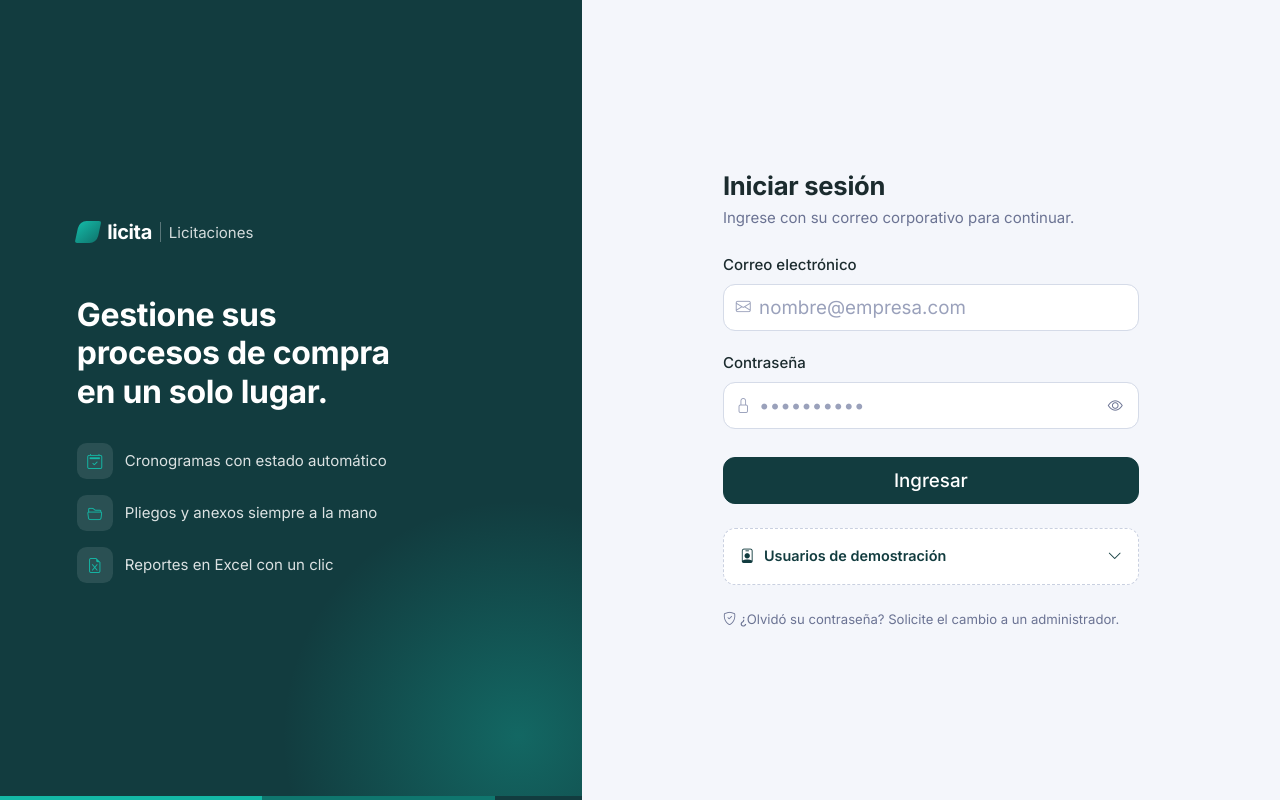
it: LoginView › shows the API message for wrong credentials and clears the password
In the field with id "login-email": x=931, y=308 [723,284,1139,331], type "admin@licita.test"
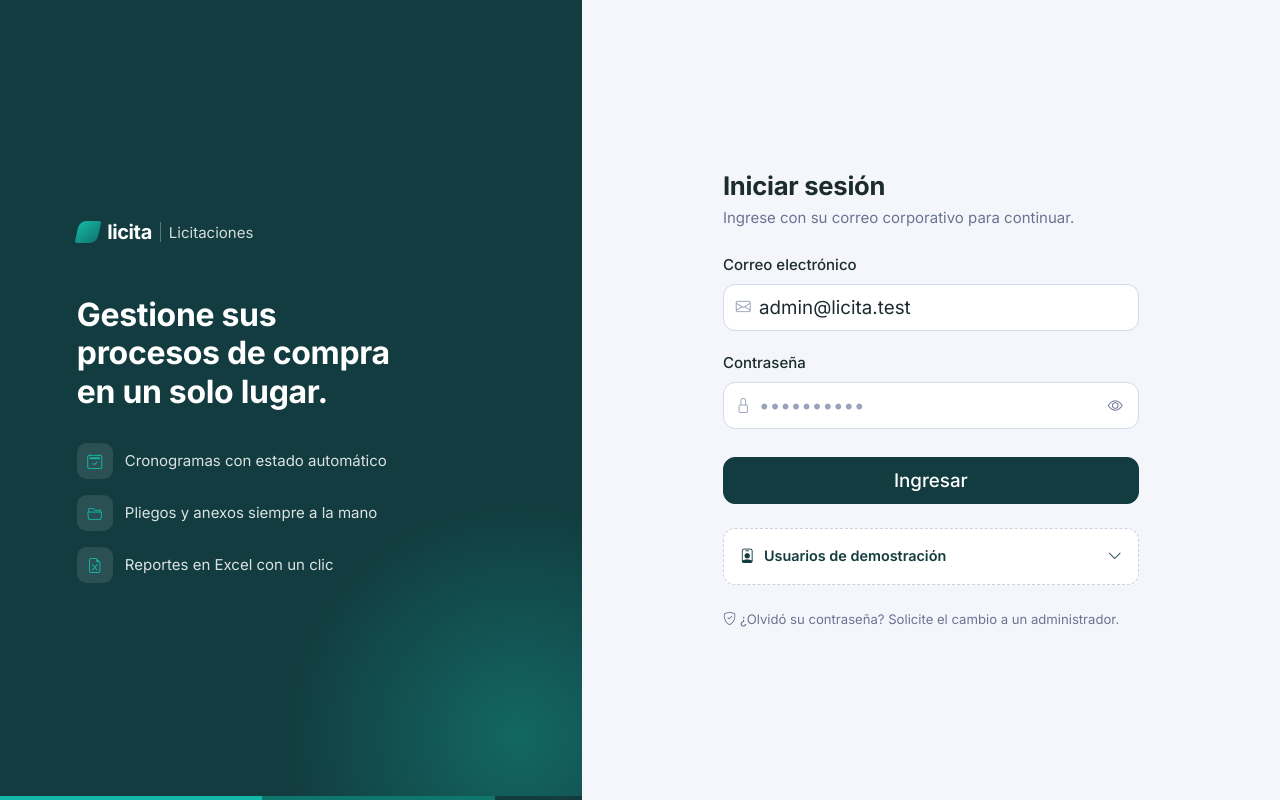
In the password field with id "login-password": x=931, y=406 [723,382,1139,430], type "otra-clave"
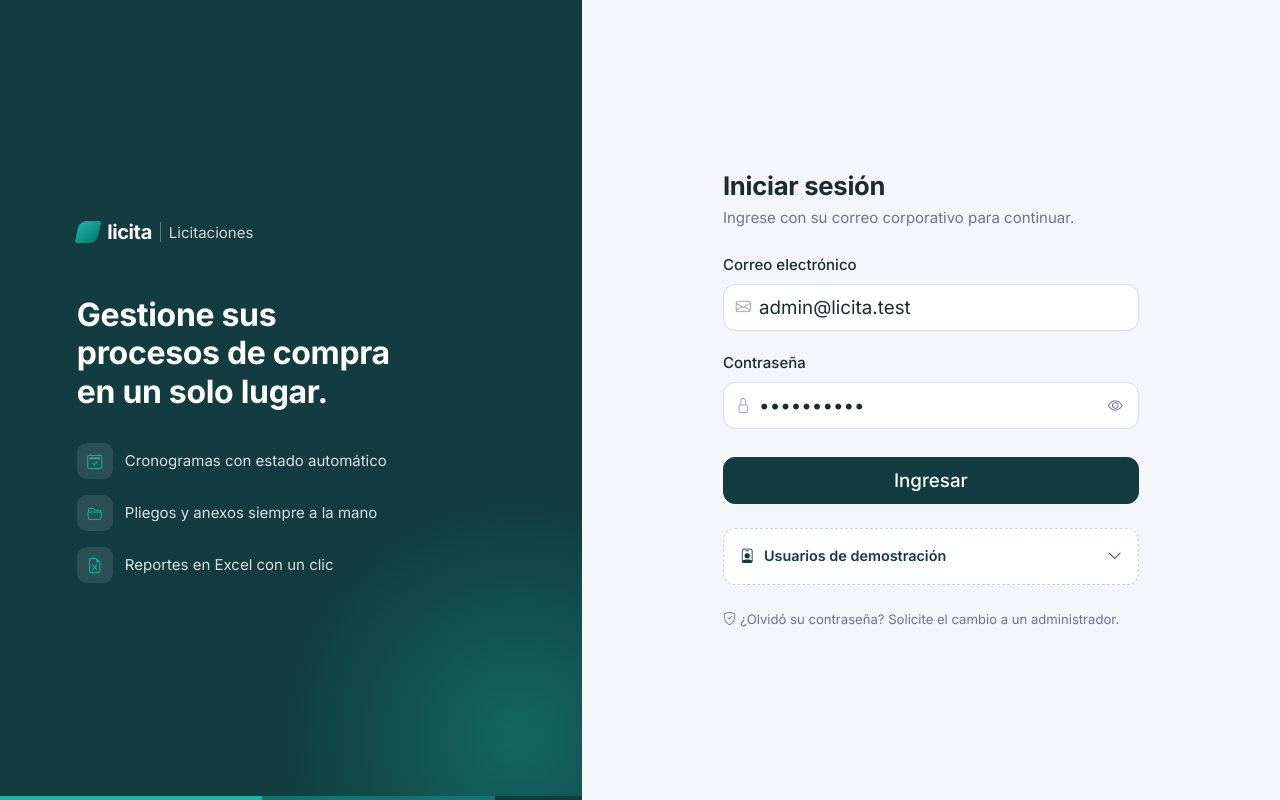
Submit the form, box [723,253,1139,504]
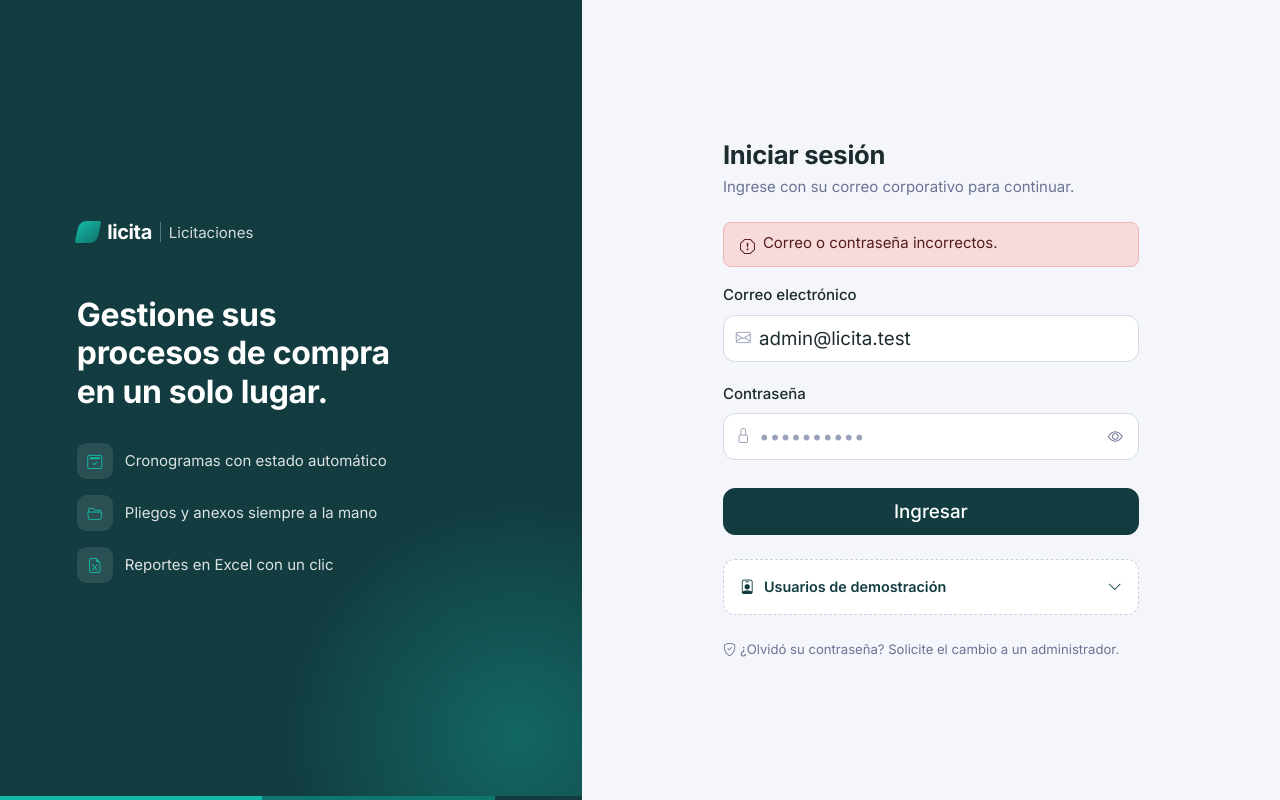
Expected: the message with test id "login-alert" reads "Correo o contraseña incorrectos.", [763,233,998,252]
Expected: the password field with id "login-password" is empty, [723,413,1139,460]
